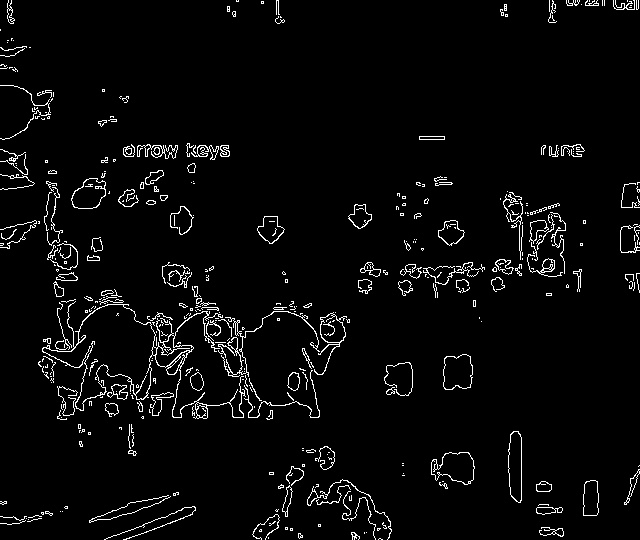down: (251, 212, 292, 251), (431, 214, 470, 249), (342, 201, 378, 234)
right: (164, 203, 201, 238)
